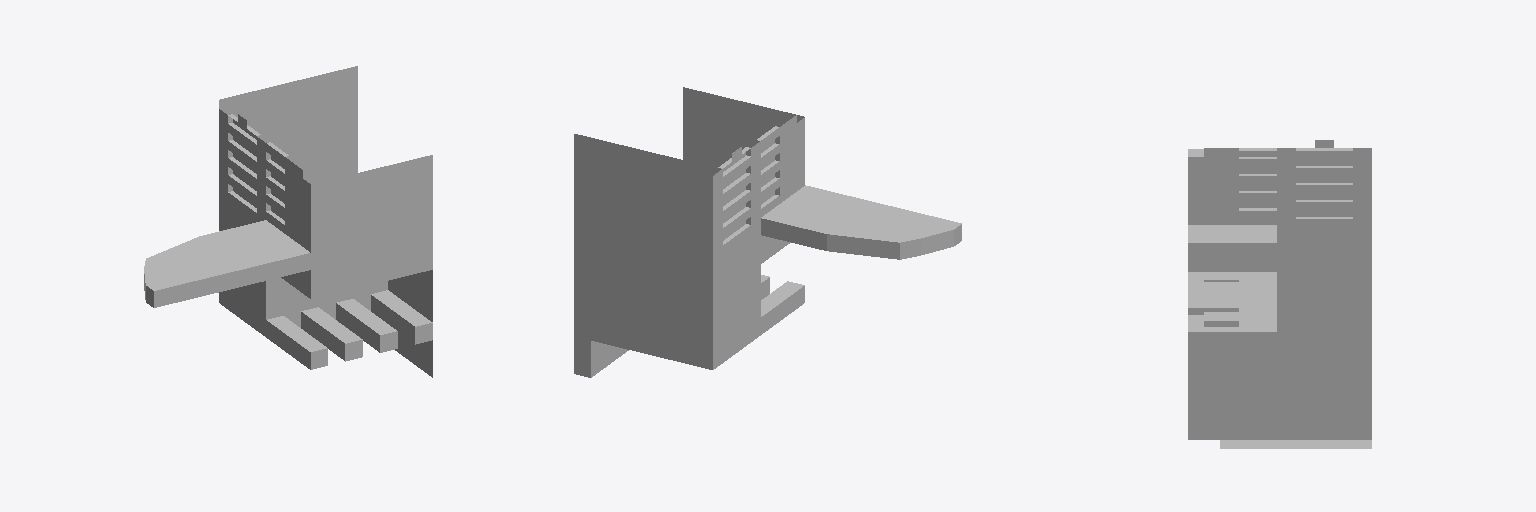
Rendered from jedna trzecia lasy.obj.
3 views of the same model, side by side, from view 1: azimuth 30°, elevation 25°; view 2: azimuth 150°, elevation 25°; view 3: azimuth 270°, elevation 25° (orthographic).
Parts seen in each view (by area): view 1: Lasy_Państwowe_Cube.001; view 2: Lasy_Państwowe_Cube.001; view 3: Lasy_Państwowe_Cube.001.
Boxes of the visible parts, x1,y1,x2,y2 form: Lasy_Państwowe_Cube.001: [144, 66, 432, 377]; Lasy_Państwowe_Cube.001: [574, 87, 961, 377]; Lasy_Państwowe_Cube.001: [1188, 140, 1371, 448].
Size of the model in its own units: 0.0234 by 0.0182 by 0.0126.